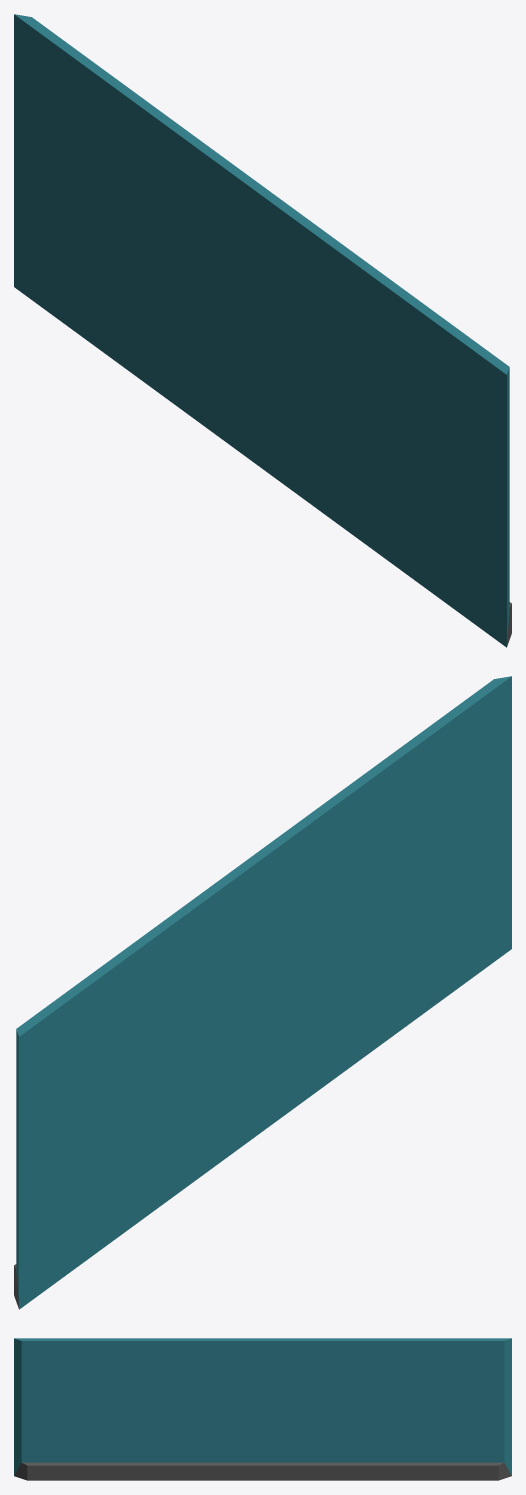
Rendered from parede_teste_2.fbx.
3 renders of one model, top to bottom at view 1: azimuth 30°, elevation 25°; view 2: azimuth 150°, elevation 25°; view 3: azimuth 270°, elevation 25°, orthographic. The views are drawn at different scales.
Visible parts, largest first — view 1: Paredes Cozinha.001; view 2: Paredes Cozinha.001; view 3: Paredes Cozinha.001.
Boxes of the visible parts, x1=… form: Paredes Cozinha.001: x1=14, y1=14, x2=511, y2=647; Paredes Cozinha.001: x1=14, y1=676, x2=511, y2=1309; Paredes Cozinha.001: x1=14, y1=1338, x2=511, y2=1480.
Bounding box in the file's own units: 45.23 × 638 × 2087.
